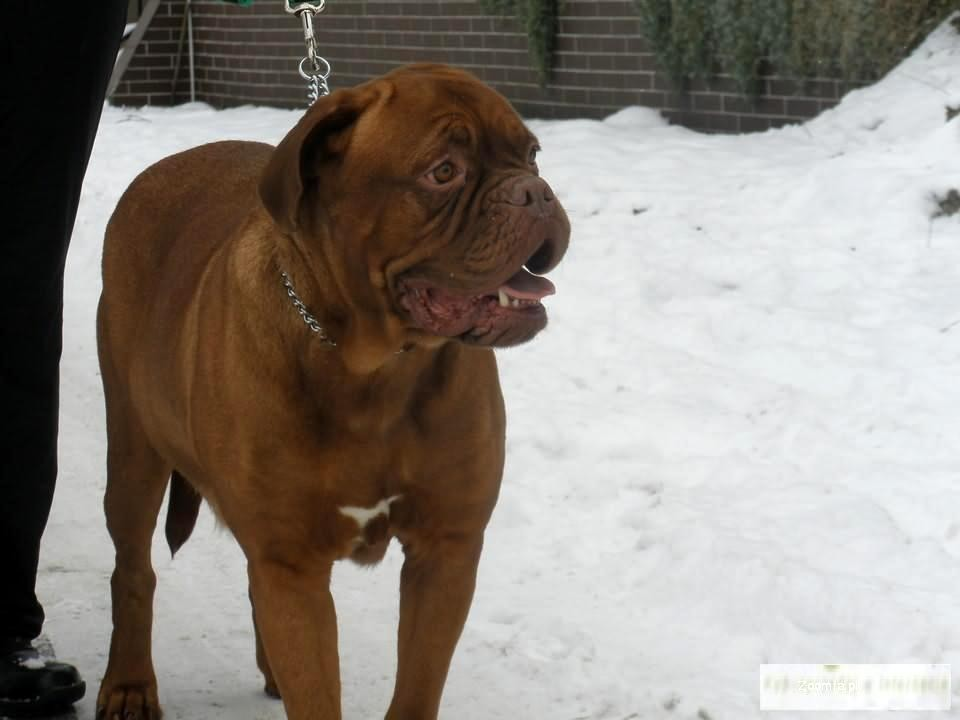dogue_de_bordeaux: (95, 63, 573, 720)
